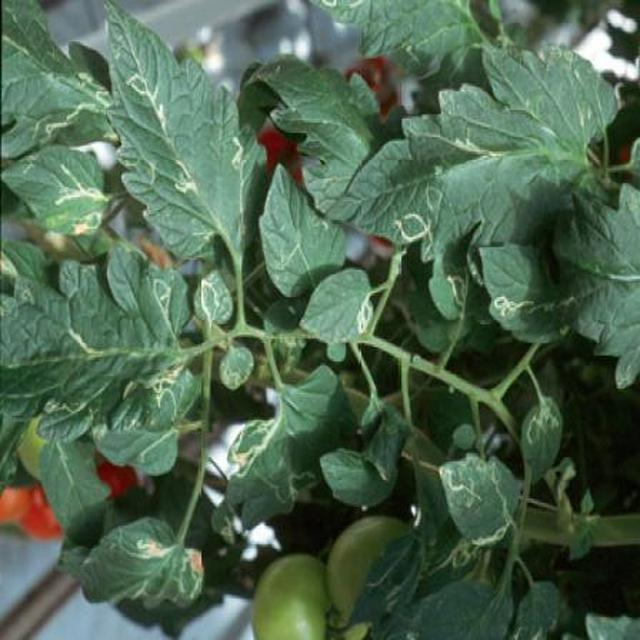Leaf Miner: (78, 111, 640, 640)
